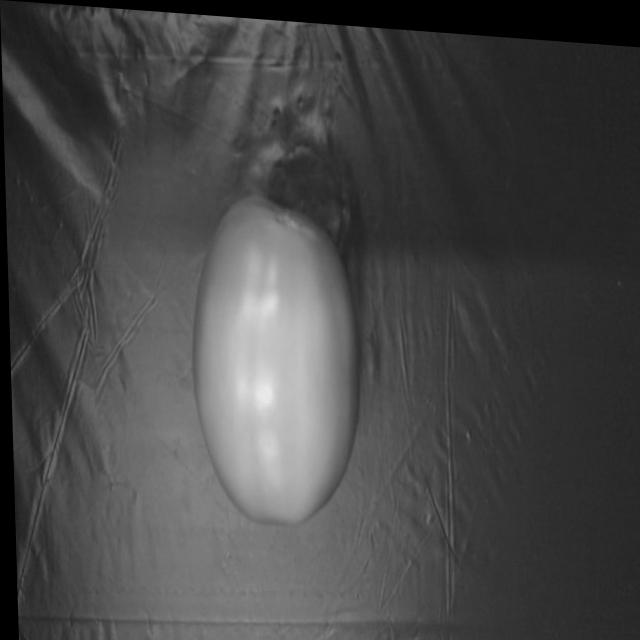sari: (164, 185, 378, 528)
